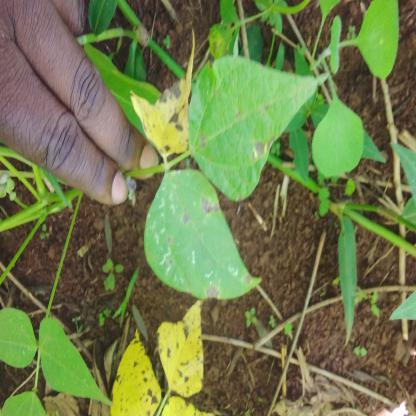Beans_Angular_LeafSpot: (188, 59, 320, 200), (142, 166, 264, 301), (111, 300, 214, 416), (138, 48, 199, 160)
